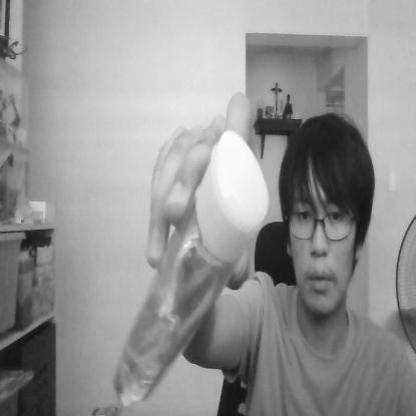Plastic Bottle: (106, 130, 268, 411)
